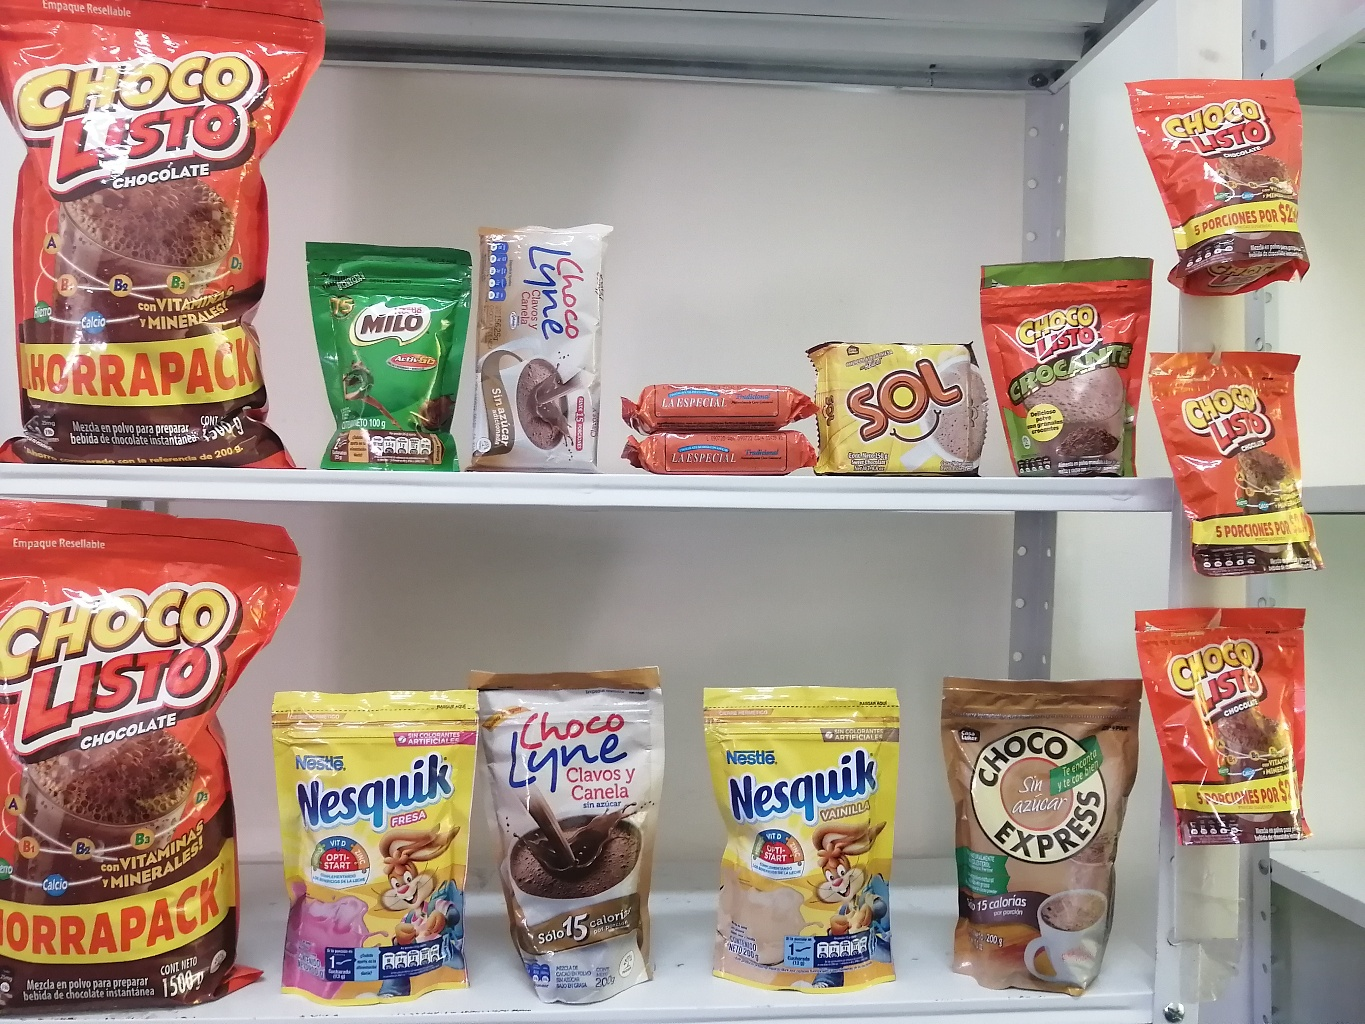COL0170102DYP10000: (975, 252, 1160, 480)
COL0170103DYP10000: (1121, 65, 1318, 308)
COL0170203DYP10000: (308, 238, 468, 466)
COL0170305DYP20000: (255, 675, 490, 1023)
COL0170306DYP20000: (697, 682, 922, 1021)
